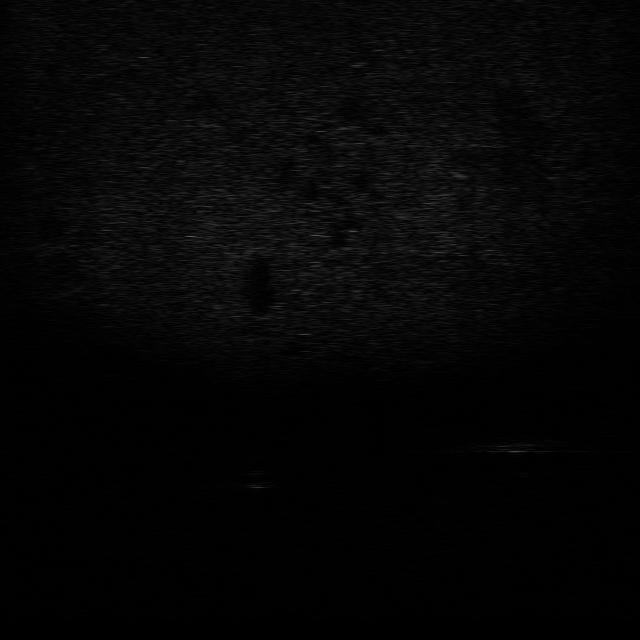ball: (238, 466, 276, 491)
human body: (471, 429, 564, 457)
